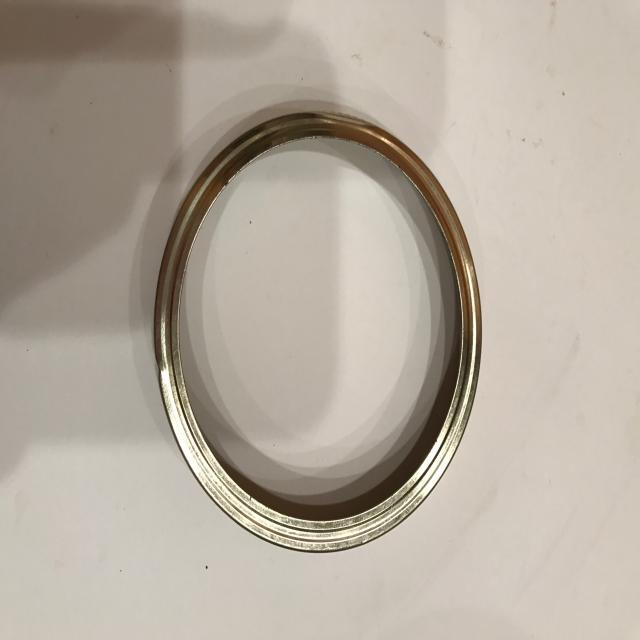metal: (152, 111, 482, 554)
